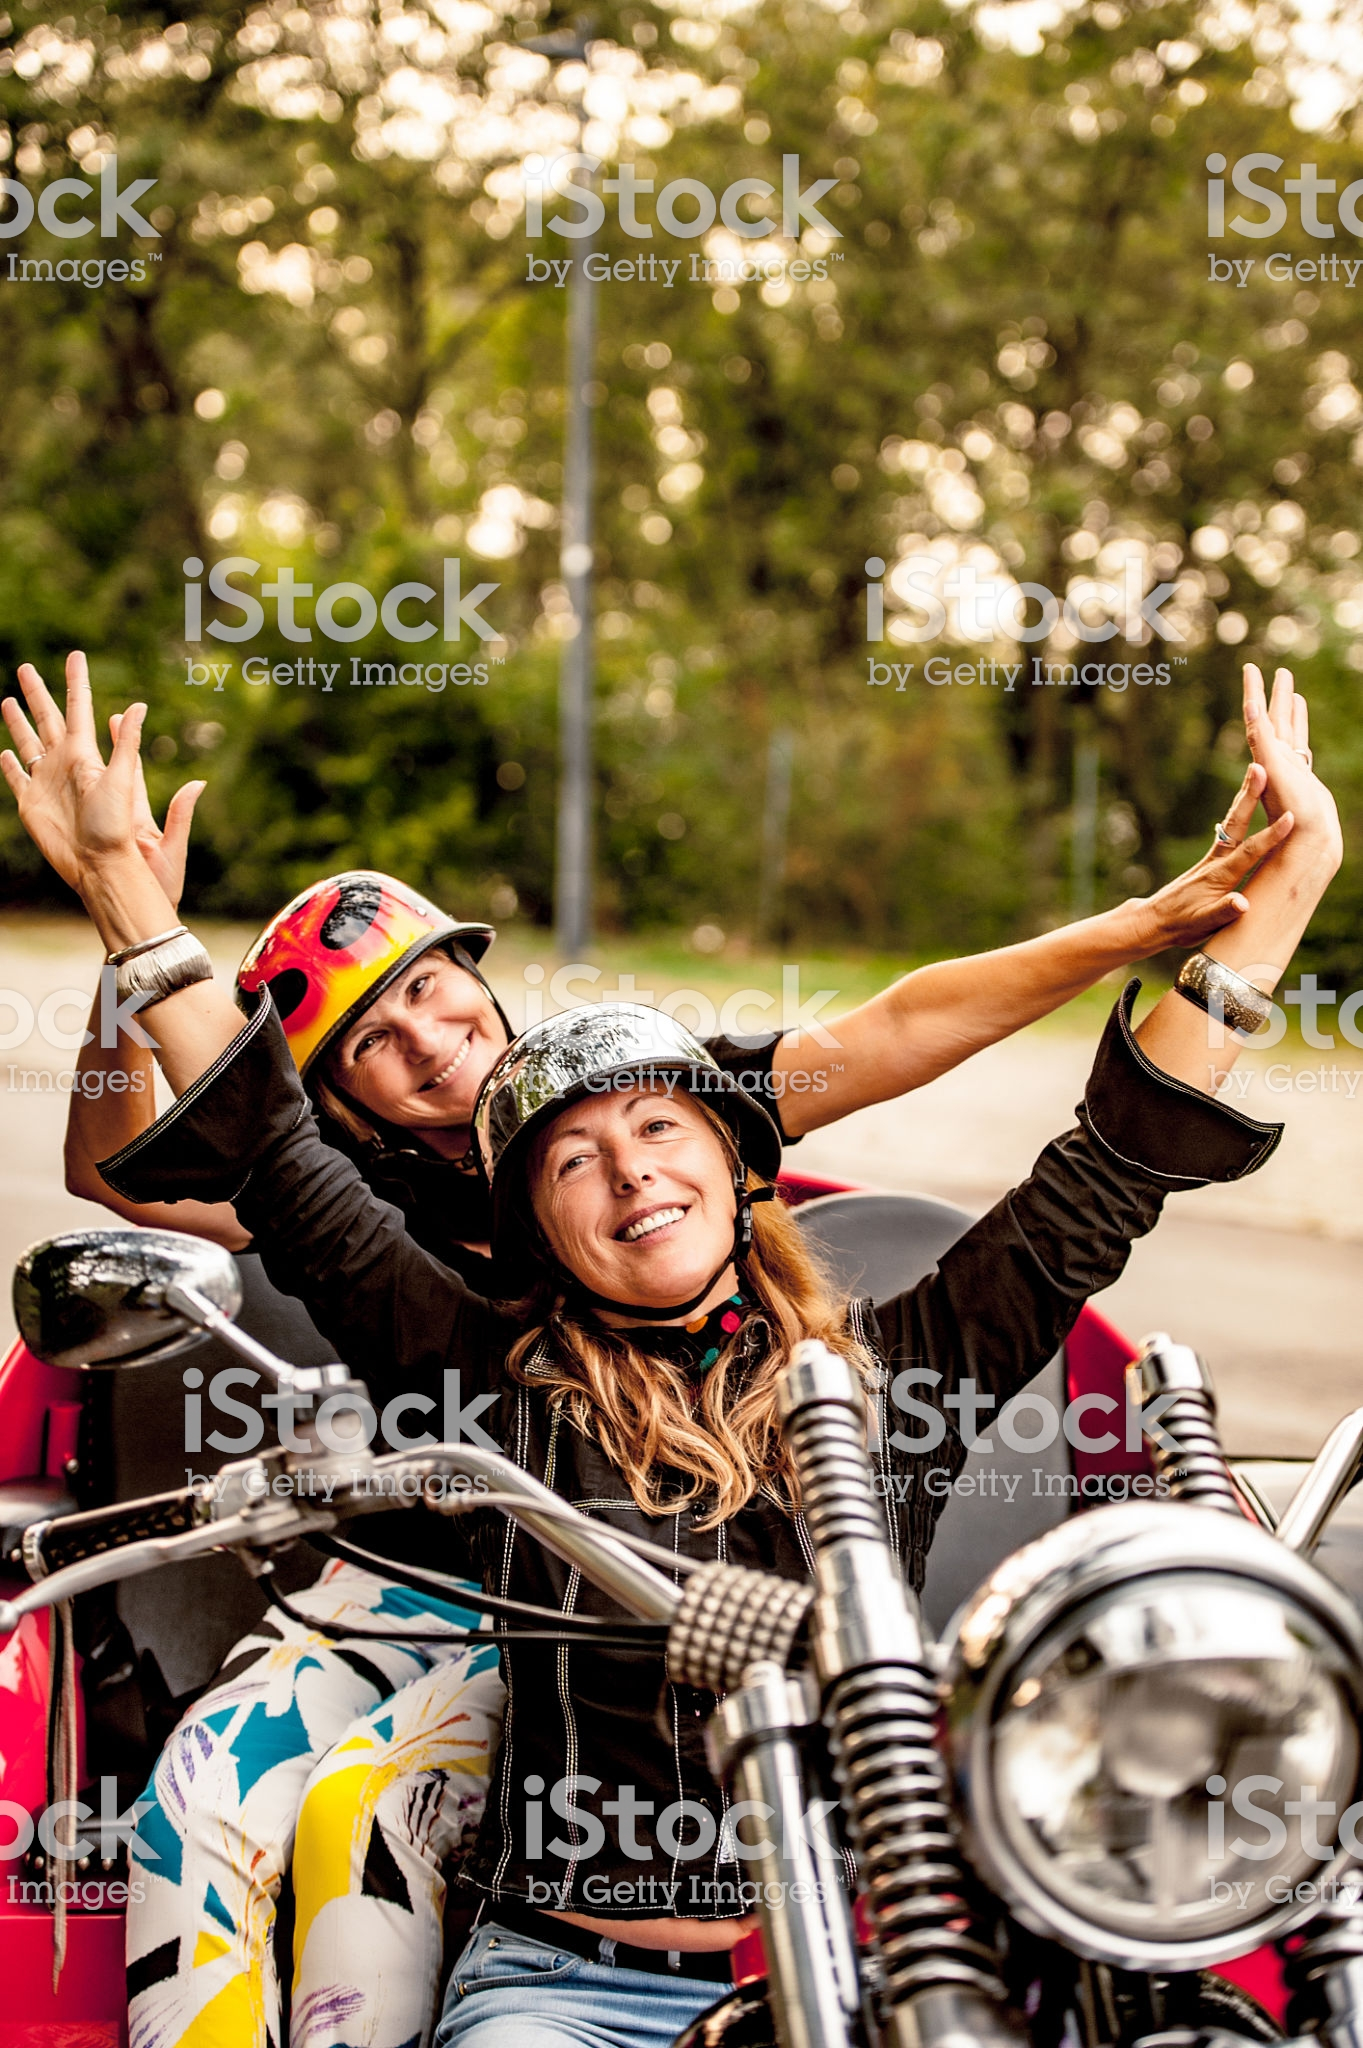helmet: (198, 847, 456, 1045)
